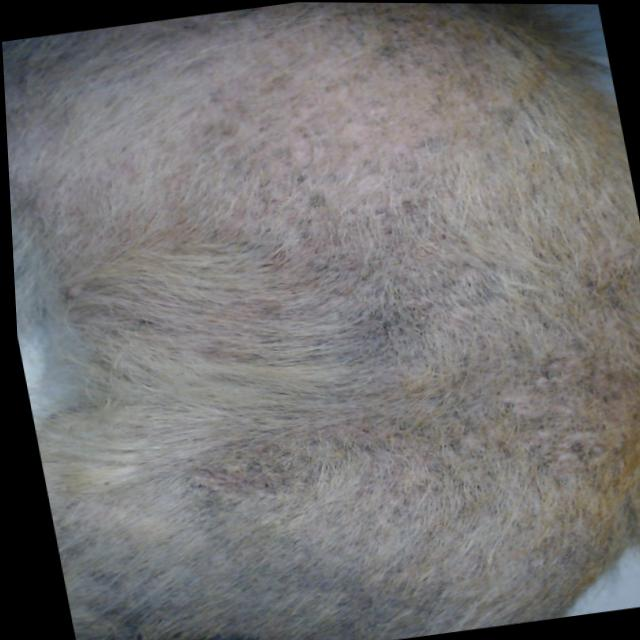demodicosis: (137, 15, 481, 248), (266, 312, 640, 511)
